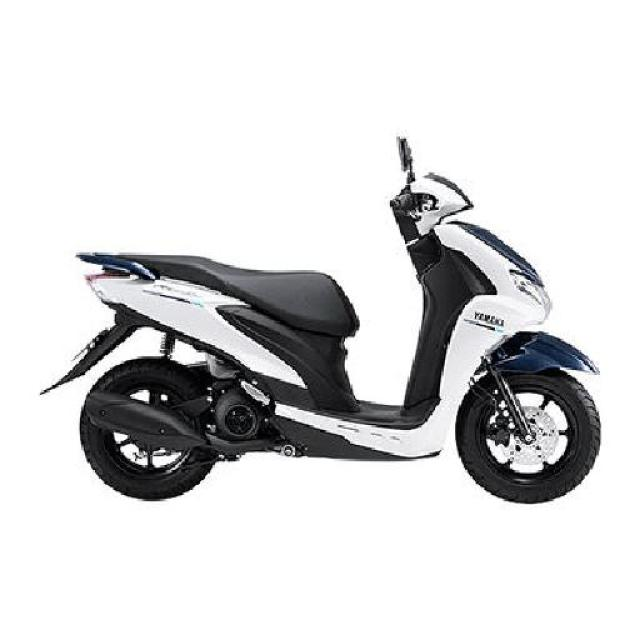All: (40, 169, 621, 503)
Head: (386, 174, 476, 221)
Tail: (73, 246, 132, 306)
